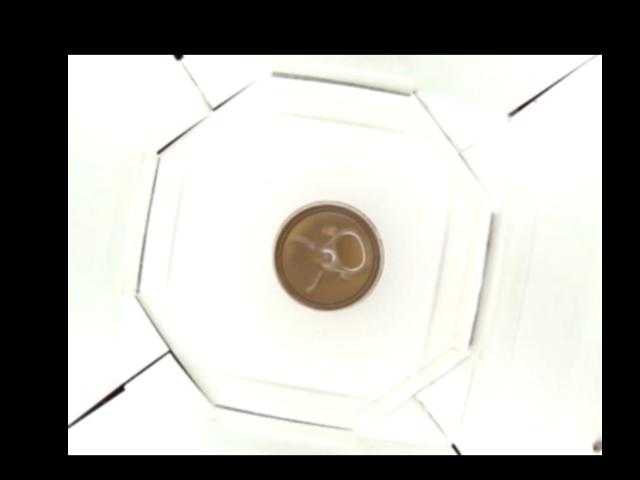Bottle: (271, 200, 387, 314)
